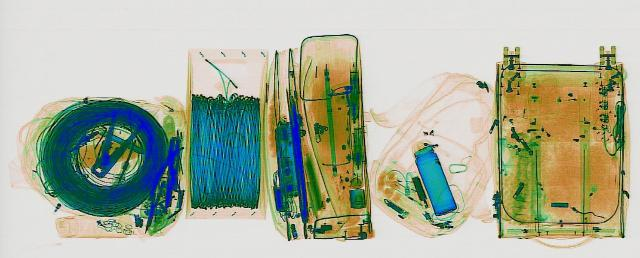Pliers: (74, 116, 148, 176)
